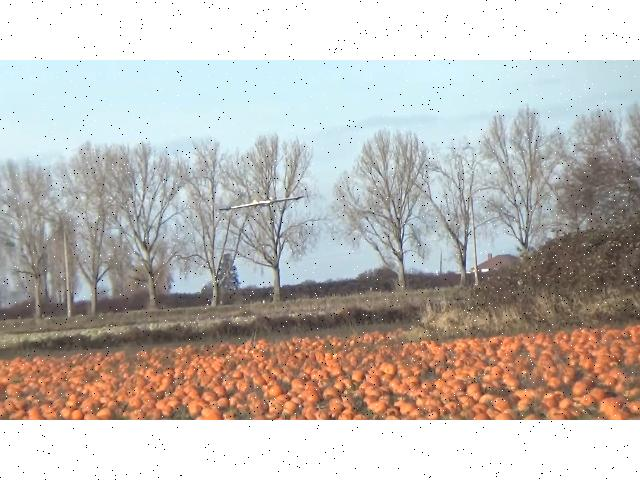Anti-Drone: (219, 196, 305, 211)
